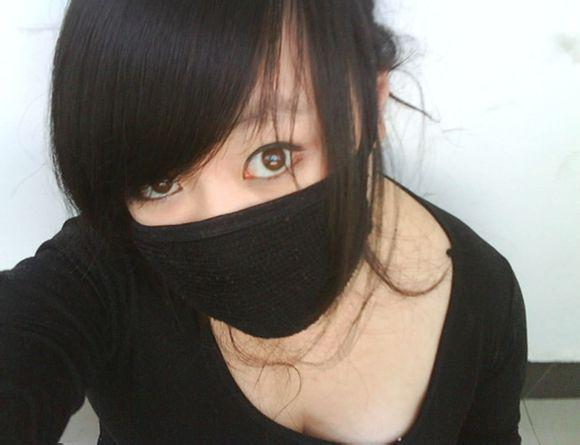OK: (121, 103, 351, 333)
